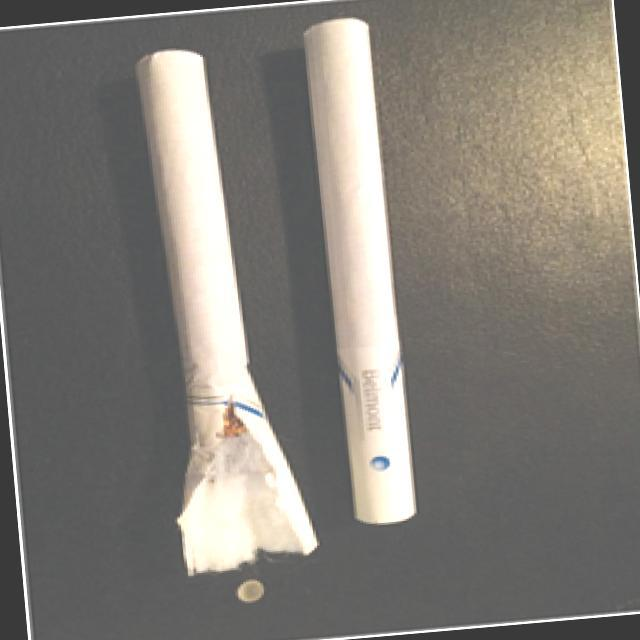cigarette: (301, 4, 423, 532)
